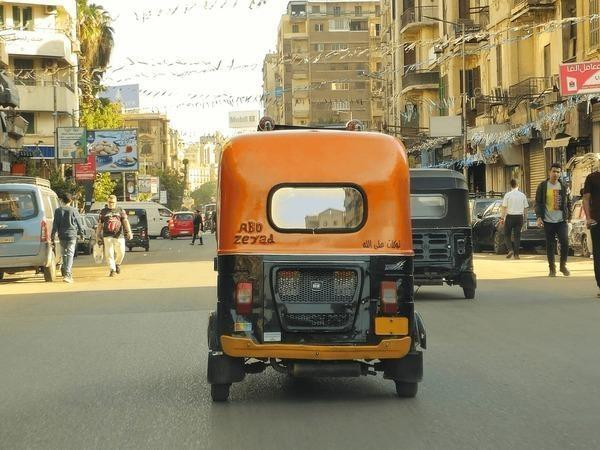keke: (205, 128, 427, 410), (408, 164, 478, 305)
